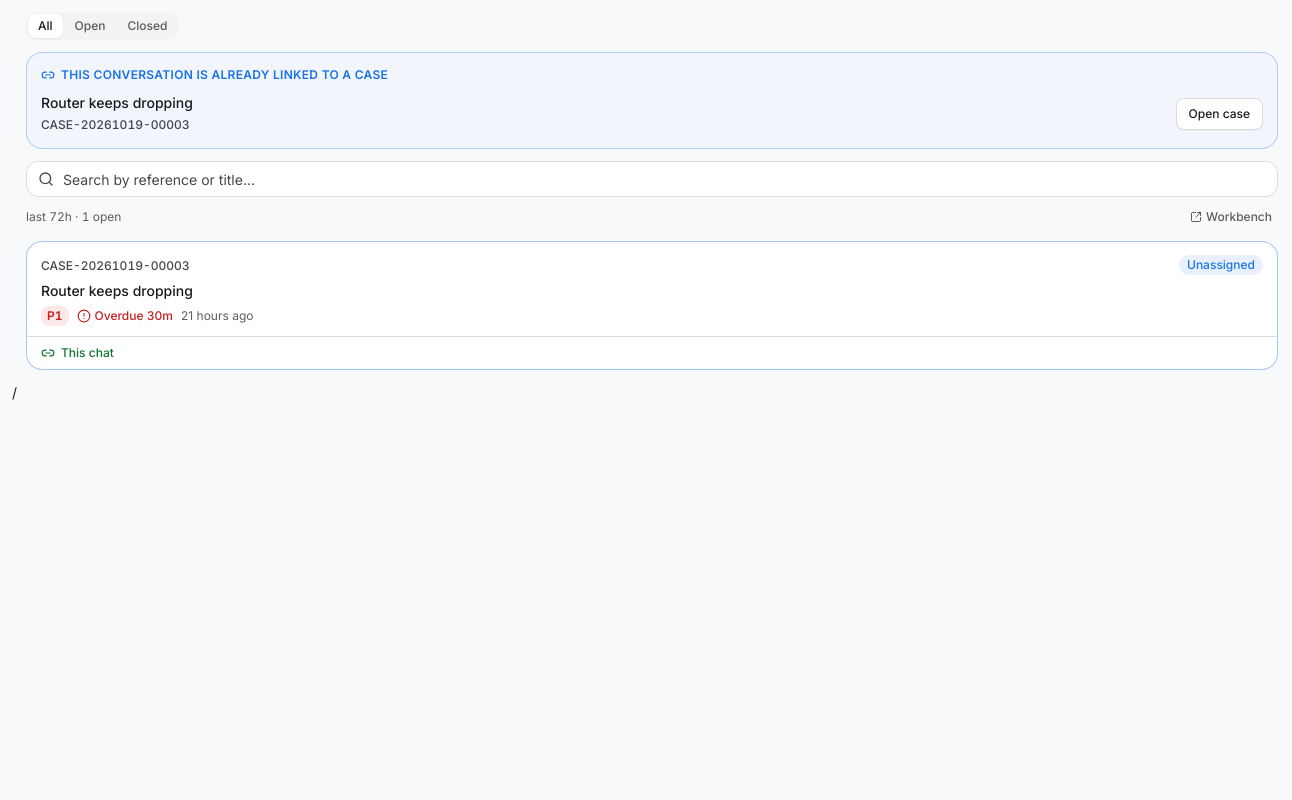
it: conversation Cases tab › shows the case already linked to this conversation
The image size is (1292, 800).
Check: the 1st text "Router keeps dropping" is shown, box x1=41 y1=93 x2=193 y2=113
Click the button "Open case" at (1219, 114), box x1=1176 y1=98 x2=1263 y2=130
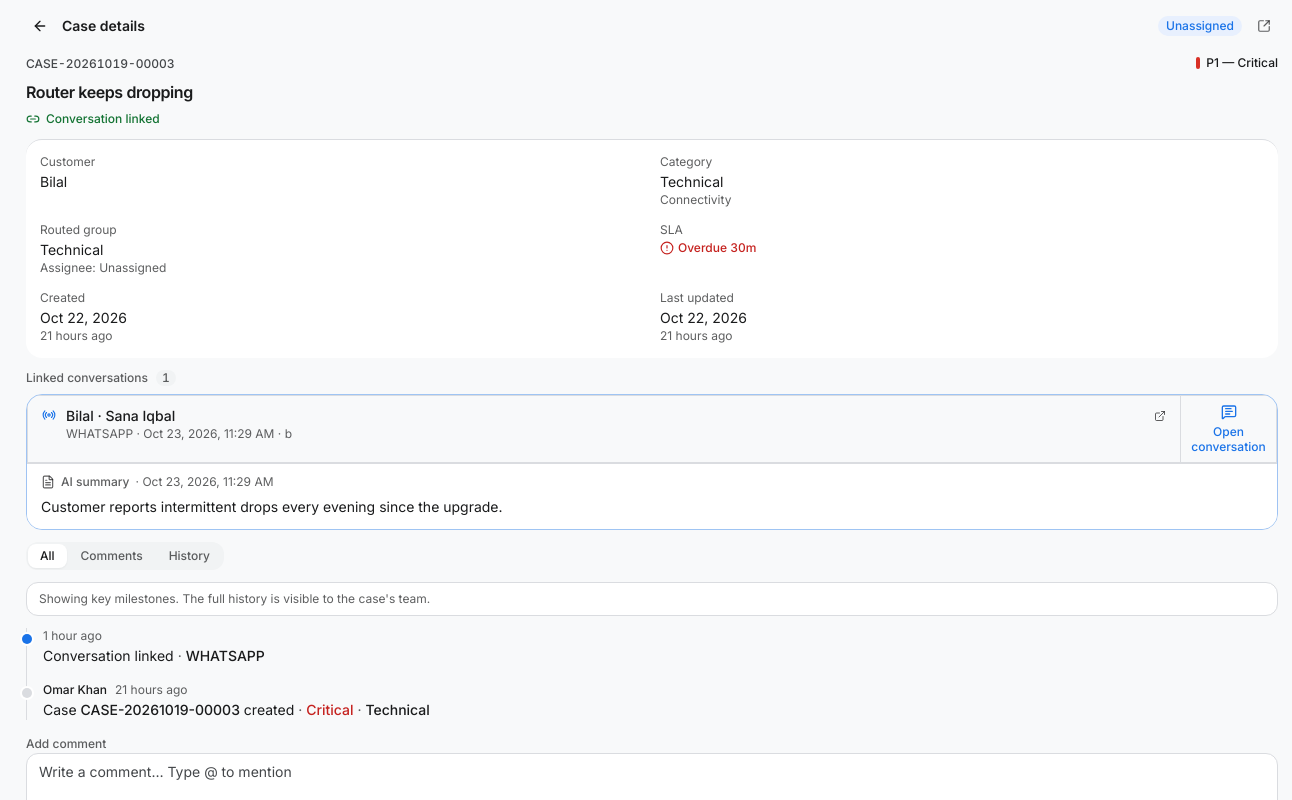
Check: the text "Conversation linked" is shown, box x1=26 y1=111 x2=160 y2=126
